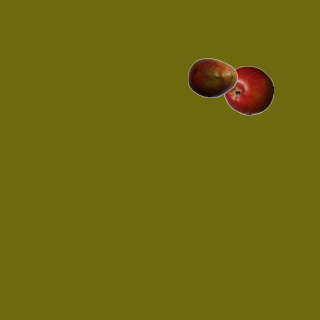Apple Braeburn: (223, 65, 273, 115)
Mango Red: (187, 52, 237, 102)
